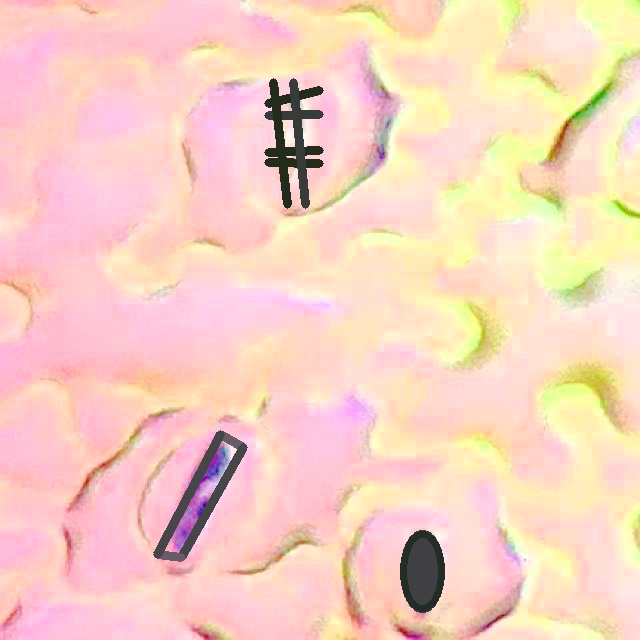open: (153, 430, 247, 561), (264, 78, 323, 208), (400, 530, 445, 612)
